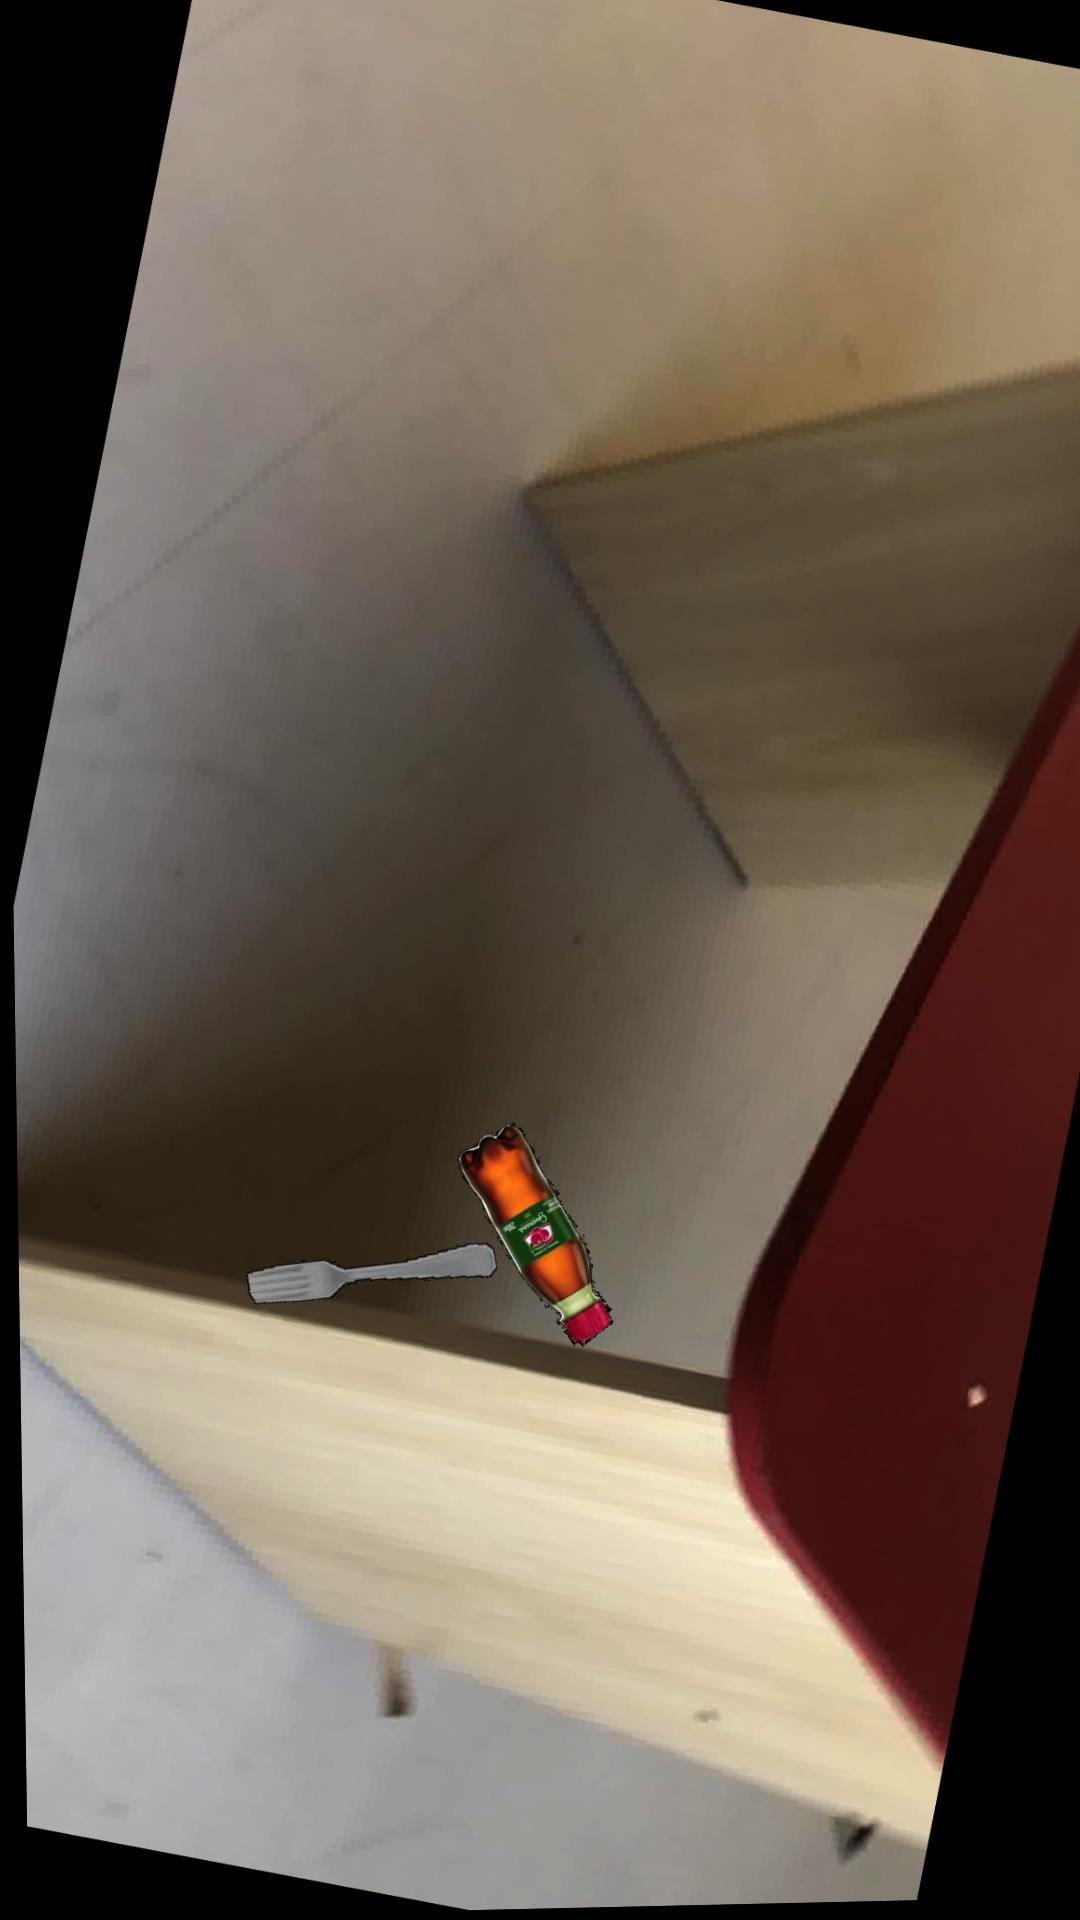fork: (241, 1244, 492, 1304)
guarana: (452, 1125, 608, 1348)
